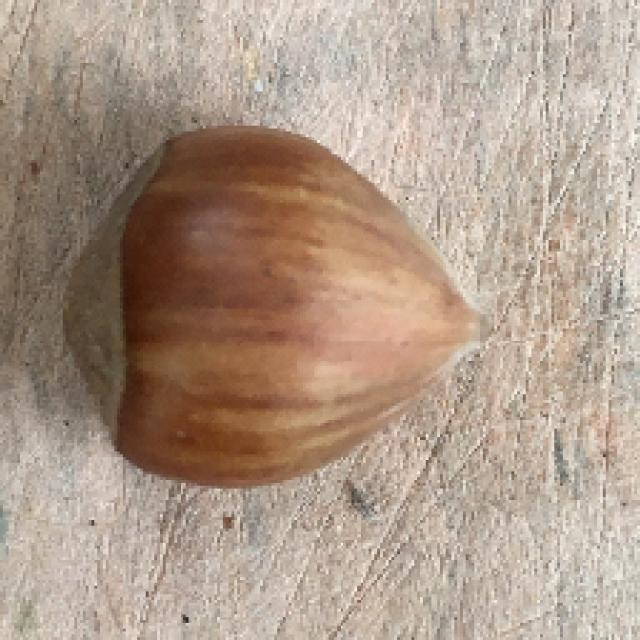damagedHazelnut: (56, 119, 491, 482)
